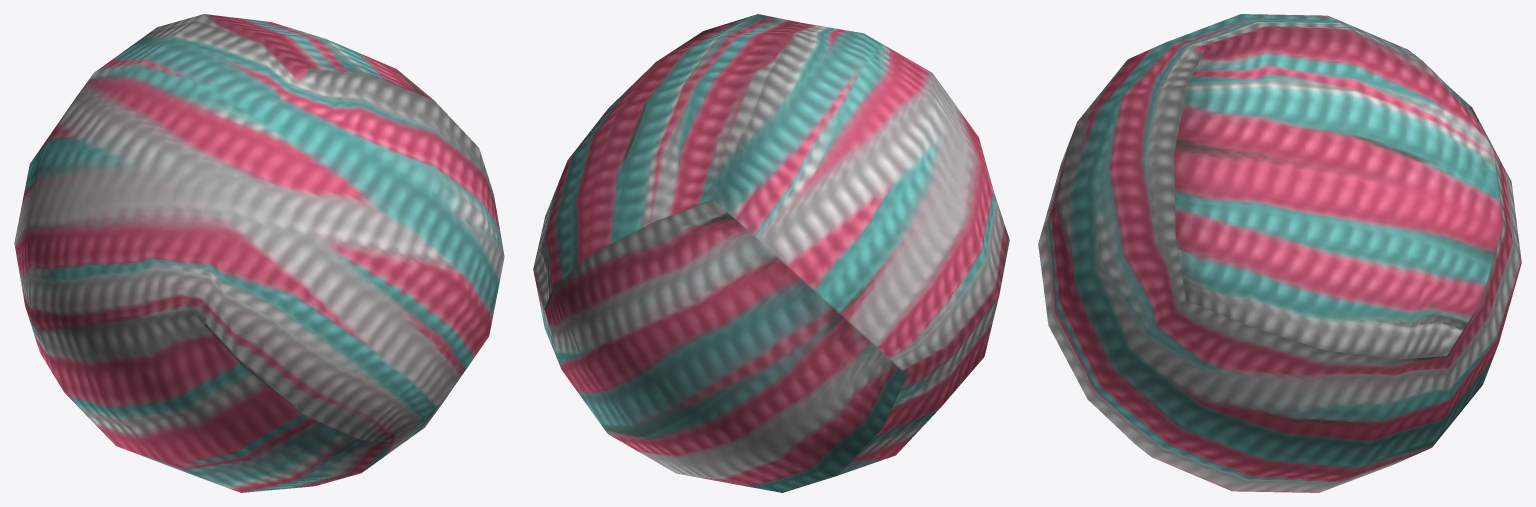
File: YarnBall.fbx
The picture shows the model from 3 angles, left to right: view 1: azimuth 30°, elevation 25°; view 2: azimuth 150°, elevation 25°; view 3: azimuth 270°, elevation 25°; orthographic projection. The views are drawn at different scales.
Parts seen in each view (by area): view 1: pasted__Yarn4; view 2: pasted__Yarn4; view 3: pasted__Yarn4.
Boxes of the visible parts, left/top/right/bottom form: pasted__Yarn4: left=14, top=14, right=504, bottom=492; pasted__Yarn4: left=533, top=14, right=1009, bottom=492; pasted__Yarn4: left=1038, top=14, right=1521, bottom=492.
Bounding box in the file's own units: 1.23 × 1.24 × 1.23.
